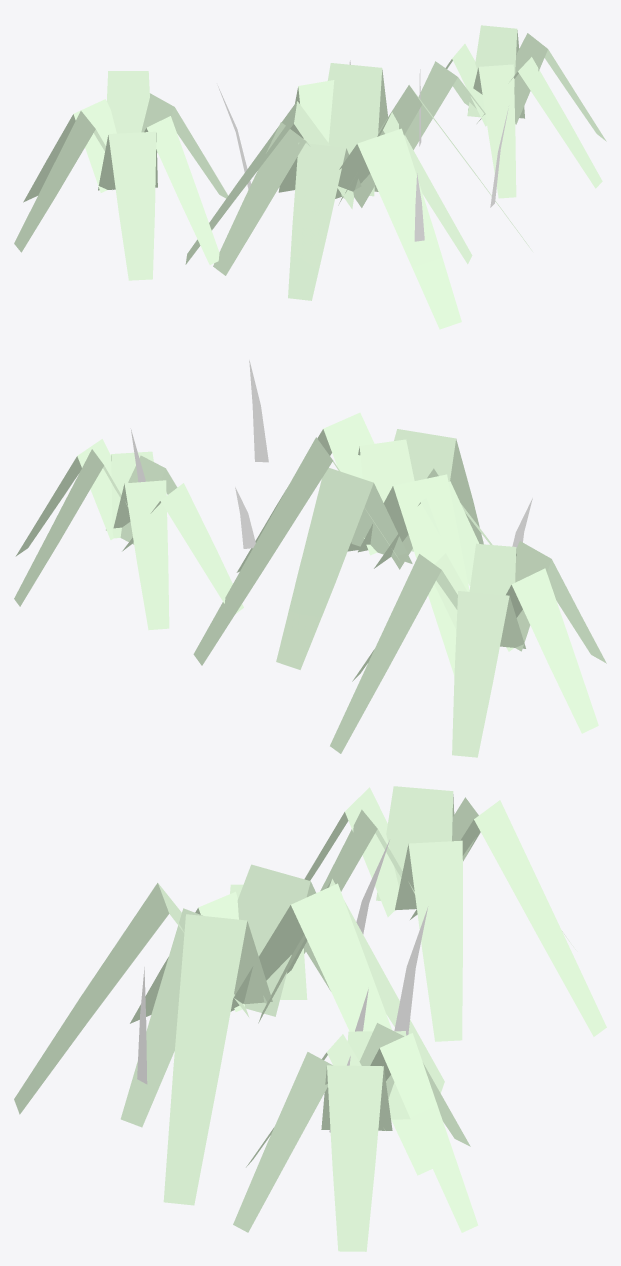
File: fern_bank.gltf
3 renders of one model, top to bottom at view 1: azimuth 30°, elevation 25°; view 2: azimuth 150°, elevation 25°; view 3: azimuth 270°, elevation 25°, orthographic. The views are drawn at different scales.
Visible parts, largest first — view 1: fern_bank_Fern_Frond, fern_bank_Grass_Blade; view 2: fern_bank_Fern_Frond, fern_bank_Grass_Blade; view 3: fern_bank_Fern_Frond, fern_bank_Grass_Blade.
Boxes of the visible parts, x1,y1,x2,y2 form: fern_bank_Fern_Frond: (14, 25, 606, 329); fern_bank_Grass_Blade: (217, 60, 508, 241); fern_bank_Fern_Frond: (14, 412, 606, 757); fern_bank_Grass_Blade: (130, 360, 532, 548); fern_bank_Fern_Frond: (14, 786, 606, 1251); fern_bank_Grass_Blade: (137, 840, 428, 1132).
Bounding box in the file's own units: 3.52 × 1.08 × 2.51.
